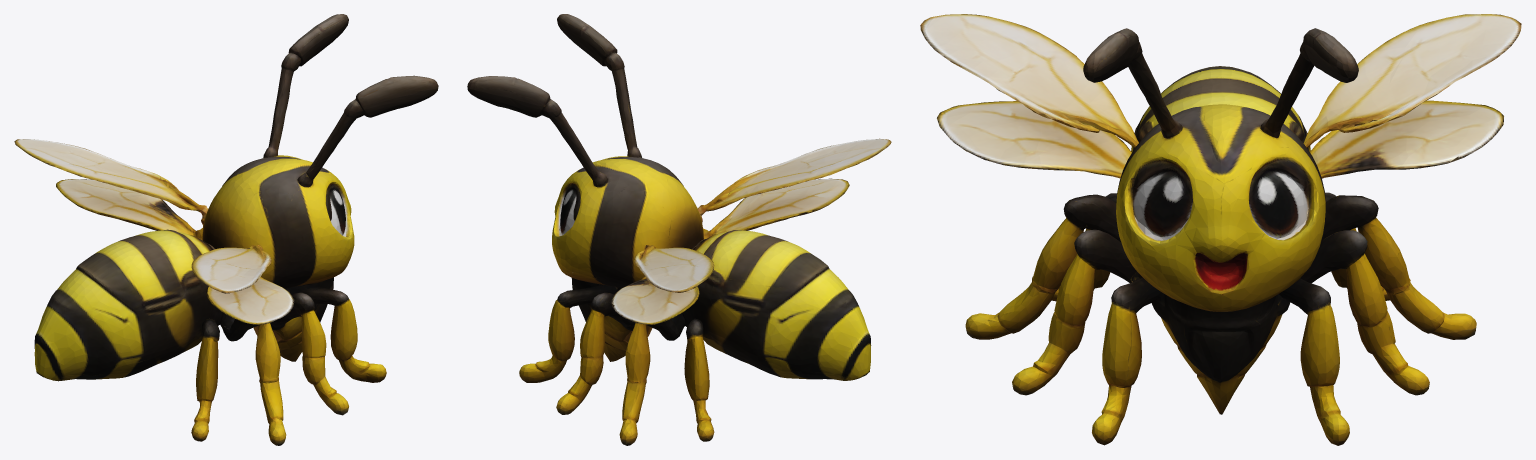
File: bee.glb
3 renders of one model, left to right at view 1: azimuth 30°, elevation 25°; view 2: azimuth 150°, elevation 25°; view 3: azimuth 270°, elevation 25°, orthographic. The views are drawn at different scales.
Visible parts, largest first — view 1: world; view 2: world; view 3: world.
Part boxes in pixels (x1=…): world: x1=14, y1=14, x2=438, y2=445; world: x1=467, y1=14, x2=891, y2=445; world: x1=920, y1=14, x2=1521, y2=445.
Bounding box in the file's own units: 2.35 × 1.87 × 2.4.
1 material, 1 textured.
